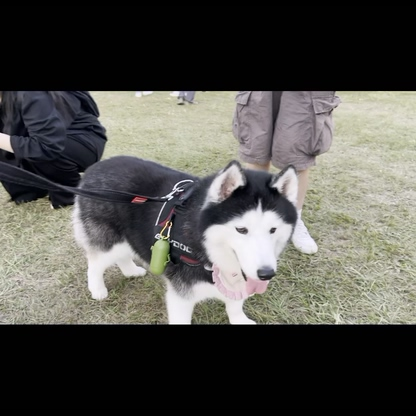husky: (63, 147, 303, 322)
